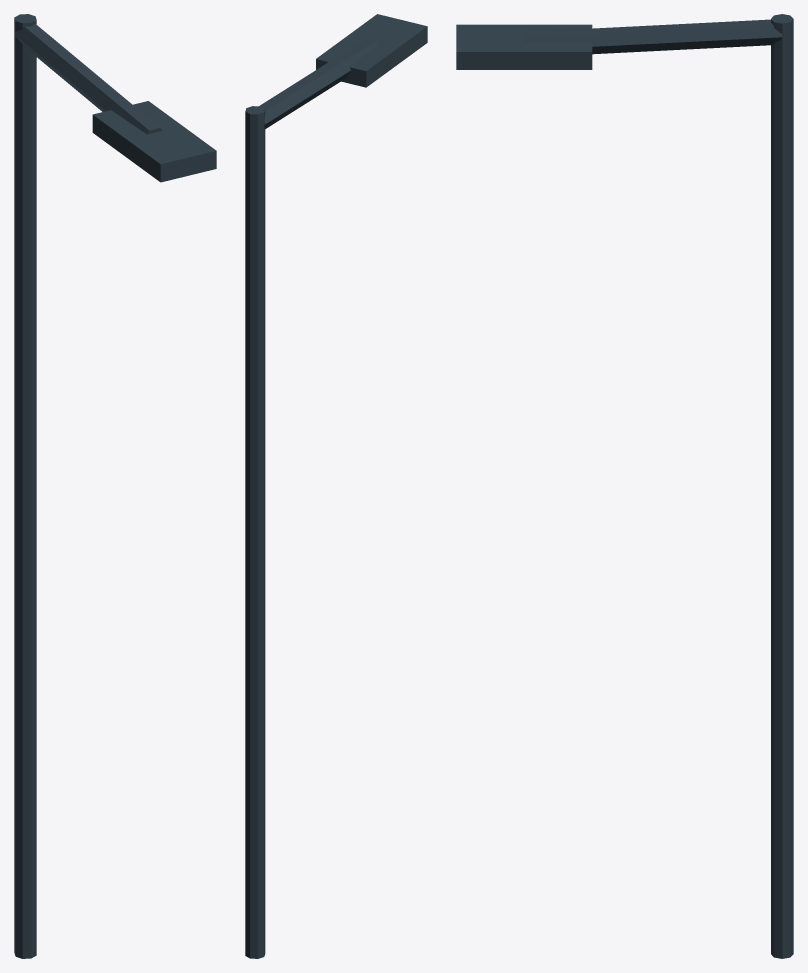
The model's file is Lamp.fbx.
3 views of the same model, side by side, from view 1: azimuth 30°, elevation 25°; view 2: azimuth 150°, elevation 25°; view 3: azimuth 270°, elevation 25° (orthographic). The views are drawn at different scales.
Visible parts, largest first — view 1: Lamp; view 2: Lamp; view 3: Lamp.
Boxes of the visible parts, x1,y1,x2,y2 form: Lamp: (14, 14, 216, 958); Lamp: (245, 14, 427, 958); Lamp: (456, 14, 793, 958).
Bounding box in the file's own units: 0.45 × 7.2 × 2.35.
